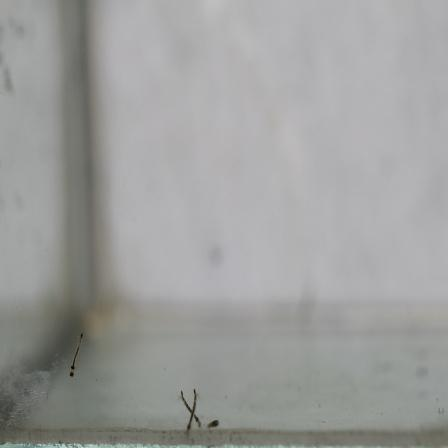Jentik-Nyamuk: (177, 385, 204, 433), (65, 330, 87, 382), (206, 416, 221, 433)
